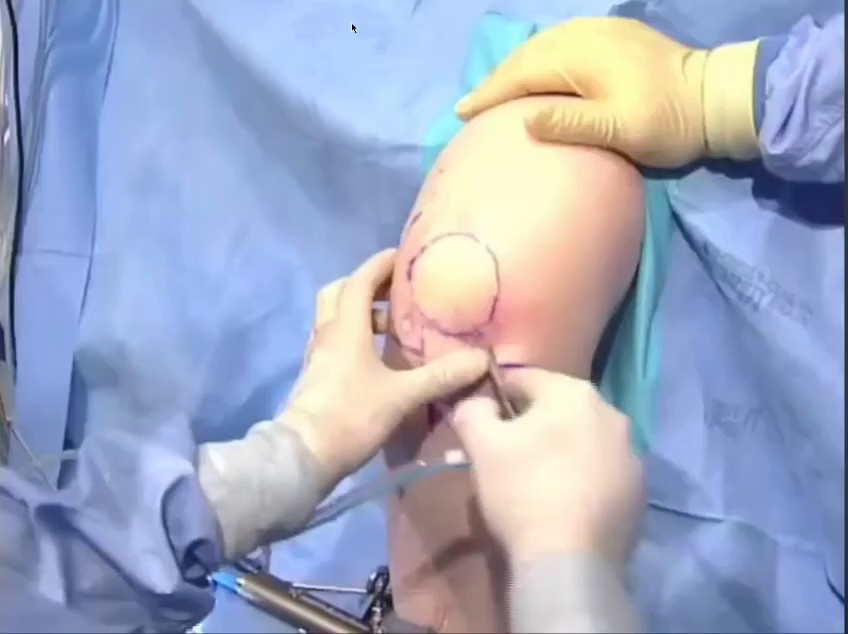arthroscope: (69, 210, 402, 508), (743, 189, 848, 609)
probe: (143, 127, 277, 264), (668, 201, 764, 311), (101, 252, 176, 377)
